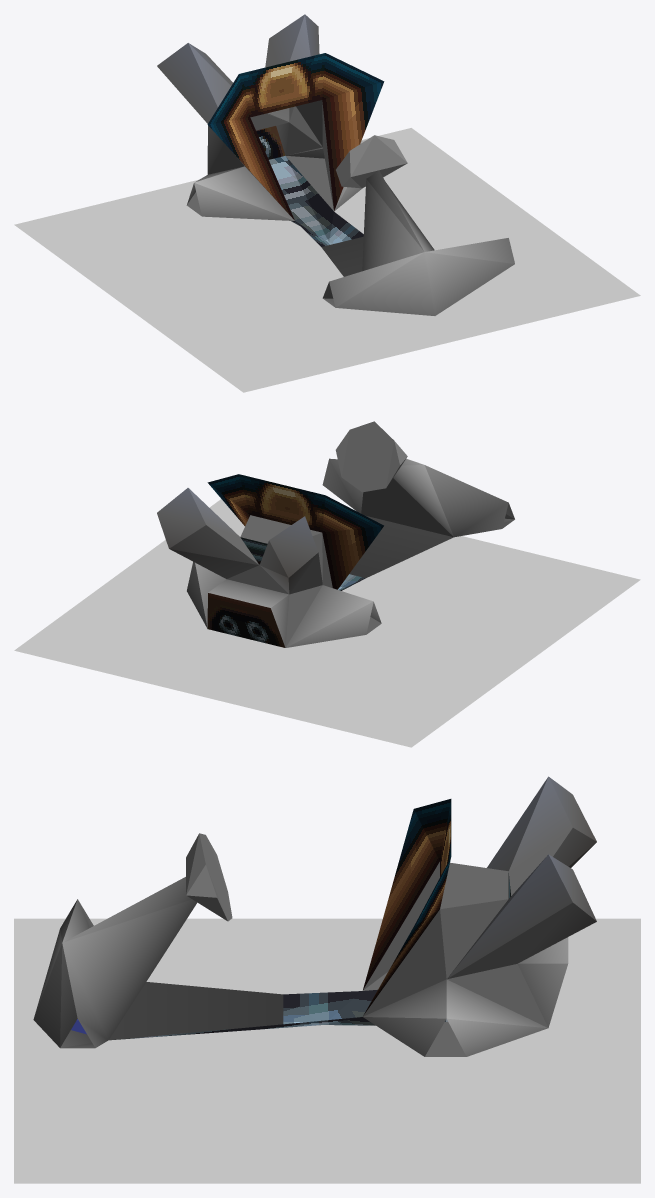
The model's file is kart_template.fbx.
3 renders of one model, top to bottom at view 1: azimuth 30°, elevation 25°; view 2: azimuth 150°, elevation 25°; view 3: azimuth 270°, elevation 25°, orthographic. The views are drawn at different scales.
Visible parts, largest first — view 1: kart_template; view 2: kart_template; view 3: kart_template.
Part boxes in pixels (x1,y1,x2,y2): kart_template: (14, 14, 640, 392); kart_template: (14, 421, 640, 747); kart_template: (14, 776, 640, 1183).
Size of the model in its own units: 200 by 83 by 200.
7 materials, 6 textured.
